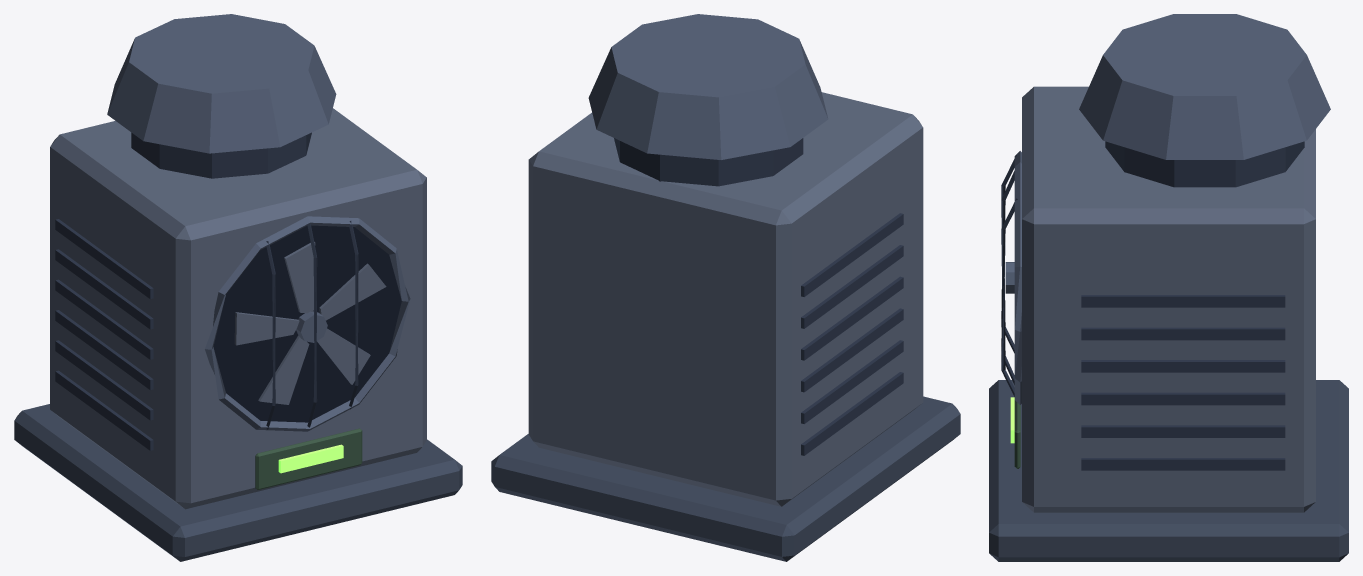
File: city_smog_scrubber.glb
3 views of the same model, side by side, from view 1: azimuth 30°, elevation 25°; view 2: azimuth 150°, elevation 25°; view 3: azimuth 270°, elevation 25° (orthographic). The views are drawn at different scales.
Visible parts, largest first — view 1: housing, exhaust_cowl, plinth, fan_recess, fan_rim, exhaust_collar, service_panel, fan_blade.003, fan_blade.002, fan_blade, fan_blade.001, filter_louvre.001 (+11 smaller); view 2: housing, exhaust_cowl, plinth, exhaust_collar, filter_louvre, filter_louvre.002, filter_louvre.003, filter_louvre.001, filter_louvre.004, filter_louvre.005; view 3: housing, exhaust_cowl, plinth, exhaust_collar, filter_louvre.008, filter_louvre.010, filter_louvre.006, filter_louvre.007, filter_louvre.009, filter_louvre.011, fan_rim, fan_guard.002 (+2 smaller).
Part boxes in pixels (x1,y1,x2,y2): housing: (50, 108, 426, 509); exhaust_cowl: (107, 14, 336, 153); plinth: (14, 404, 462, 561); fan_recess: (213, 225, 401, 422); fan_rim: (205, 216, 410, 431); exhaust_collar: (131, 132, 311, 178); service_panel: (255, 428, 362, 489); fan_blade.003: (258, 335, 309, 404); fan_blade.002: (234, 312, 299, 345); fan_blade: (319, 263, 386, 320); fan_blade.001: (284, 242, 315, 313); filter_louvre.001: (55, 340, 153, 420); housing: (528, 92, 923, 506); exhaust_cowl: (588, 14, 828, 159); plinth: (491, 396, 960, 561); exhaust_collar: (614, 138, 803, 186); filter_louvre: (801, 372, 903, 455); filter_louvre.002: (801, 308, 903, 392); filter_louvre.003: (801, 276, 903, 360); filter_louvre.001: (801, 340, 903, 423); filter_louvre.004: (801, 245, 903, 328); filter_louvre.005: (801, 213, 903, 296); housing: (1022, 86, 1315, 512); exhaust_cowl: (1079, 14, 1330, 159); plinth: (989, 380, 1348, 561); exhaust_collar: (1105, 141, 1304, 187); filter_louvre.008: (1081, 392, 1285, 405); filter_louvre.010: (1081, 327, 1285, 340); filter_louvre.006: (1081, 458, 1285, 470); filter_louvre.007: (1081, 425, 1285, 437); filter_louvre.009: (1081, 360, 1285, 372); filter_louvre.011: (1081, 295, 1285, 307); fan_rim: (1014, 151, 1021, 404); fan_guard.002: (1001, 198, 1017, 396).
Bounding box in the file's own units: 3 × 4 × 3.
